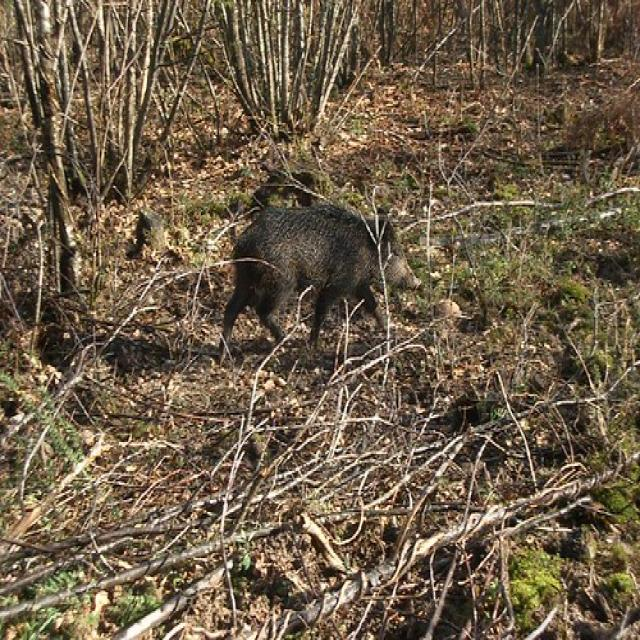boar: (190, 166, 433, 384)
